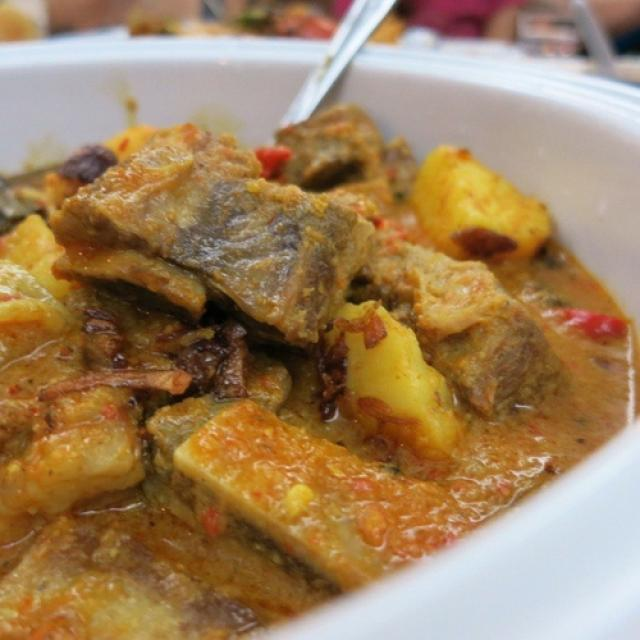熟制海鲜: (18, 40, 605, 618)
